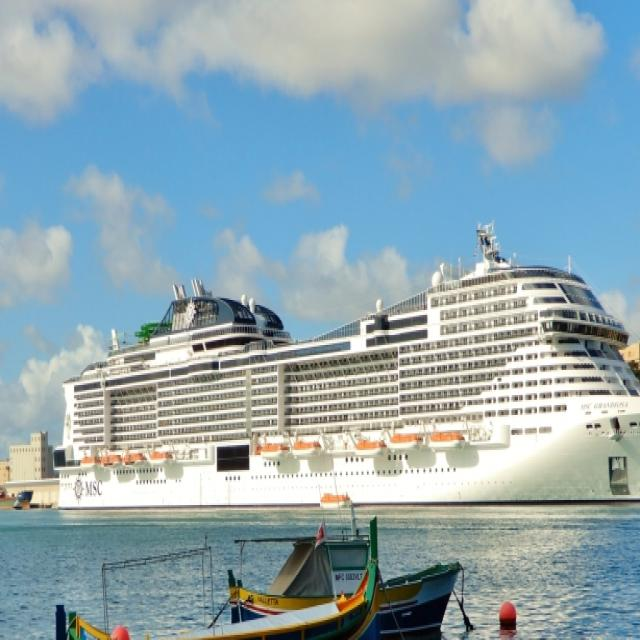cruises: (52, 240, 640, 520)
